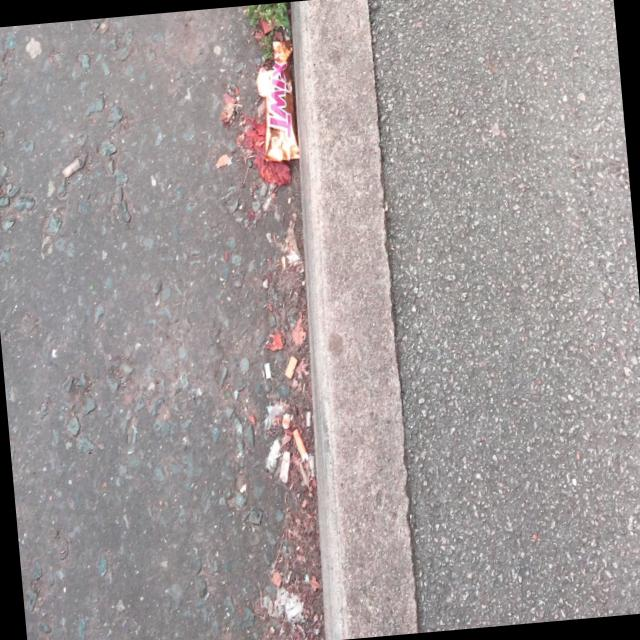less trash: (256, 40, 299, 161)
